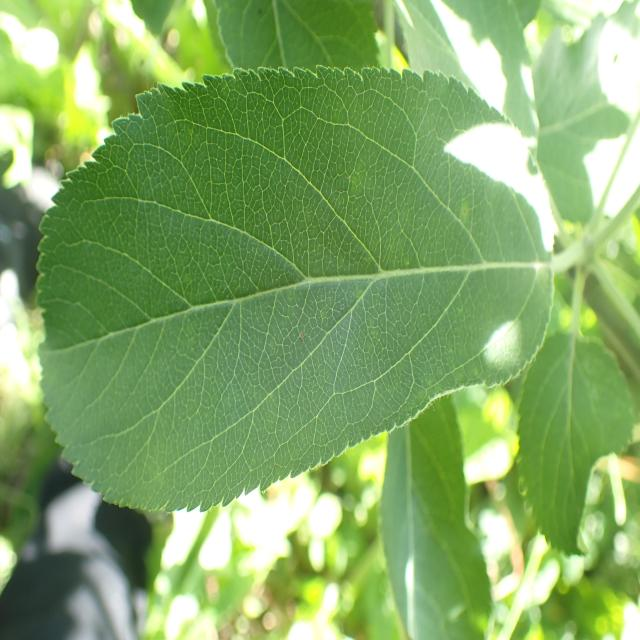healthy: (33, 64, 555, 514), (514, 327, 638, 558), (379, 391, 494, 639), (531, 1, 640, 232), (394, 0, 540, 171), (215, 0, 383, 78)
